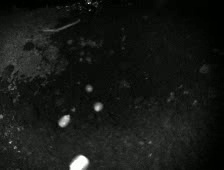corn: (64, 151, 92, 170), (55, 112, 73, 129), (90, 99, 106, 113), (82, 81, 96, 94)
